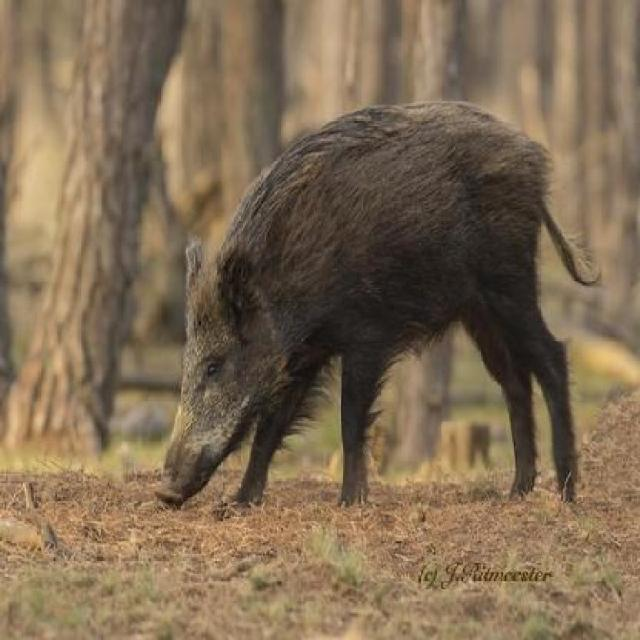wildboar: (150, 101, 604, 518)
